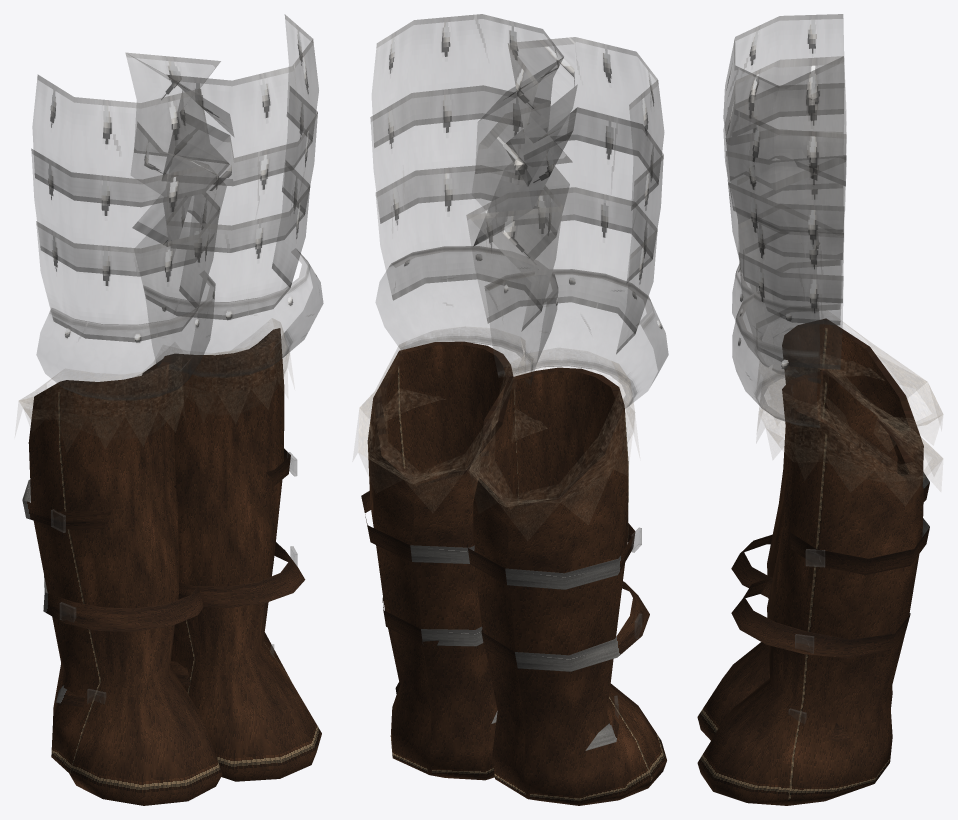
The model's file is bottes_acier_nordique.glb.
3 renders of one model, left to right at view 1: azimuth 30°, elevation 25°; view 2: azimuth 150°, elevation 25°; view 3: azimuth 270°, elevation 25°, orthographic. The views are drawn at different scales.
Parts seen in each view (by area): view 1: bottes_acier_nordique.001; view 2: bottes_acier_nordique.001; view 3: bottes_acier_nordique.001.
Boxes of the visible parts, x1,y1,x2,y2 form: bottes_acier_nordique.001: (16,14,323,805); bottes_acier_nordique.001: (357,14,668,805); bottes_acier_nordique.001: (697,14,943,805).
Bounding box in the file's own units: 0.2803 × 0.6704 × 0.2204.
3 materials, 3 textured.
